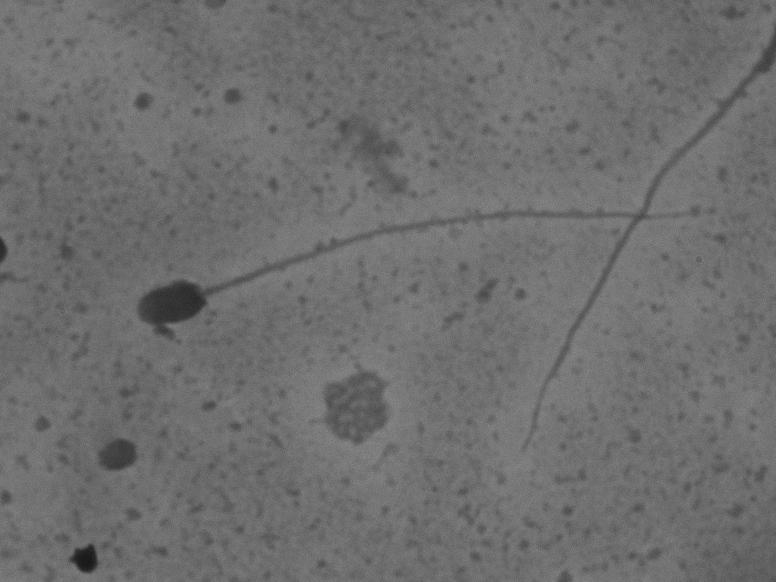Abnormal: (123, 182, 713, 346)
